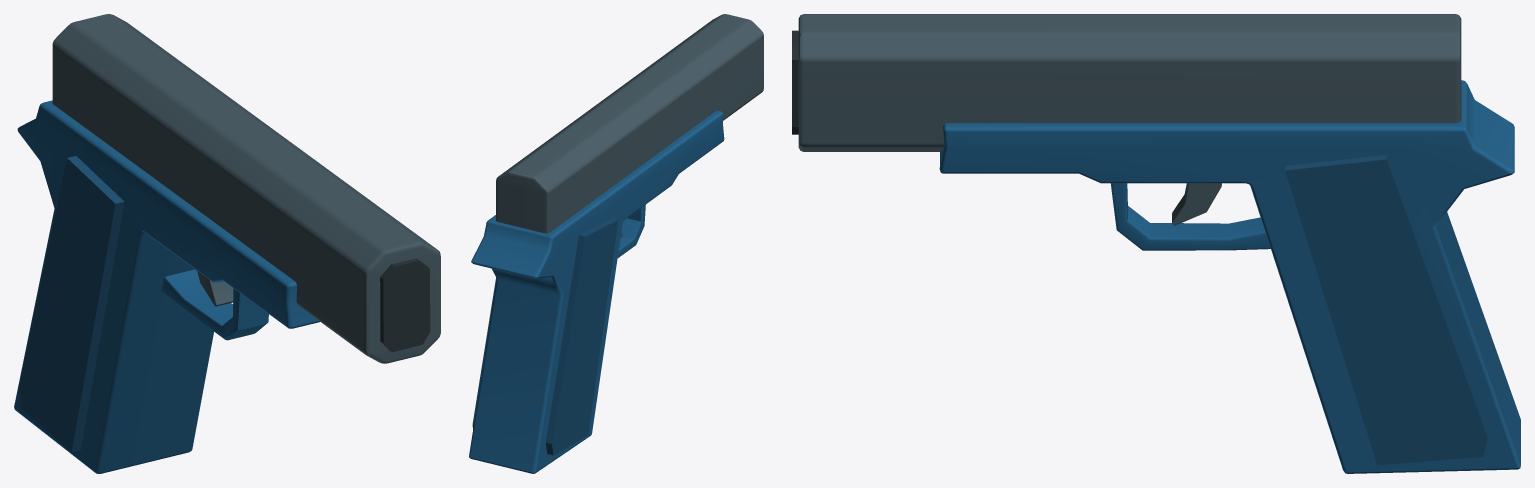
File: gun.fbx
3 views of the same model, side by side, from view 1: azimuth 30°, elevation 25°; view 2: azimuth 150°, elevation 25°; view 3: azimuth 270°, elevation 25° (orthographic). The views are drawn at different scales.
Visible parts, largest first — view 1: gun; view 2: gun; view 3: gun.
Boxes of the visible parts, x1=… form: gun: x1=14, y1=14, x2=440, y2=473; gun: x1=469, y1=14, x2=763, y2=473; gun: x1=792, y1=14, x2=1520, y2=473.
Size of the model in its own units: 16.05 by 54.18 by 83.73.
